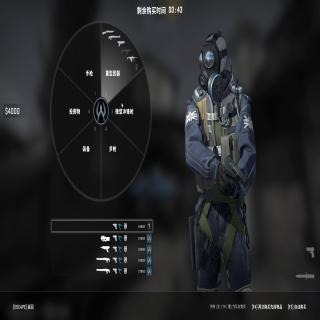CT-Head: (197, 32, 227, 103)
